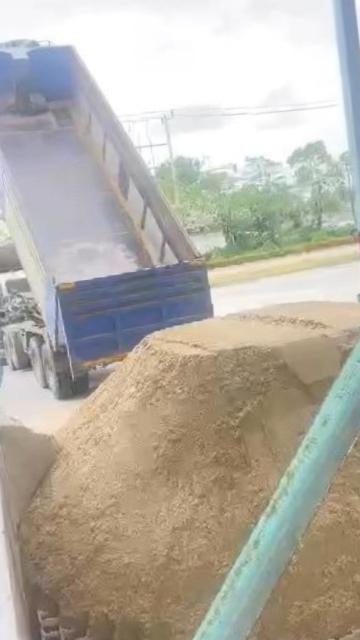sand: (24, 303, 360, 640), (253, 371, 360, 640), (0, 407, 55, 529)
